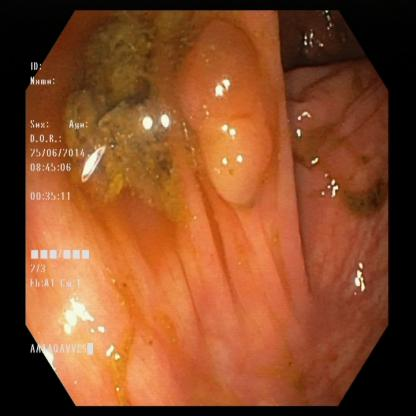Labels: (26, 50, 109, 370)
Polyps: (176, 15, 291, 211)
